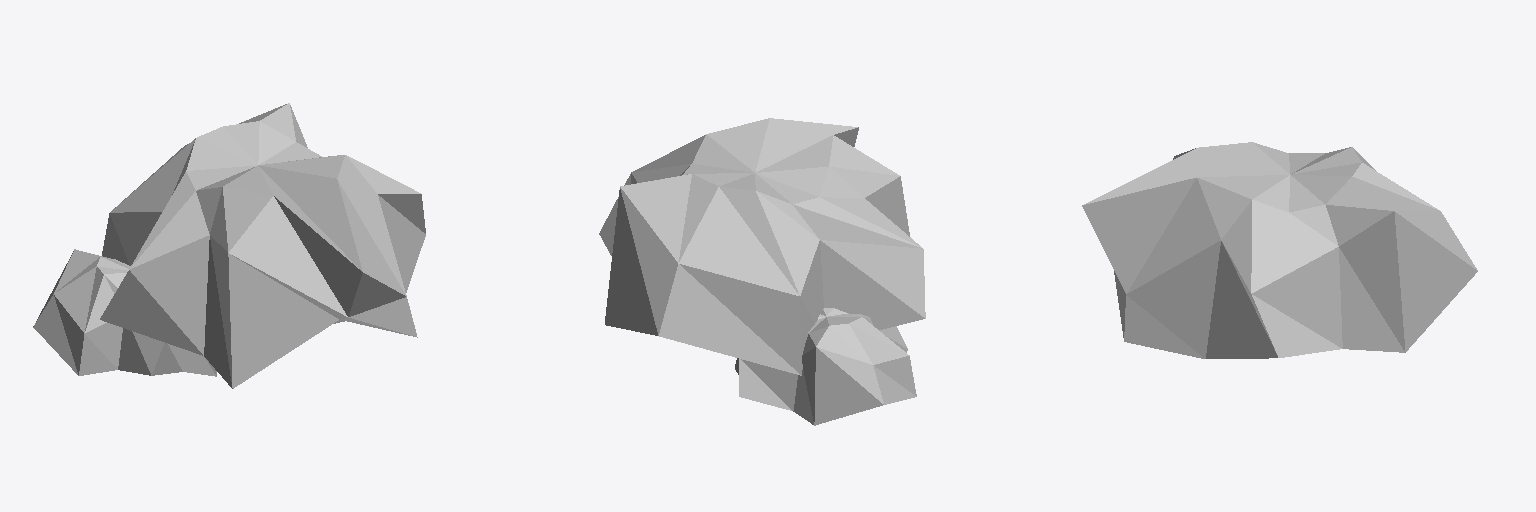
Rendered from leaves2.obj.
3 views of the same model, side by side, from view 1: azimuth 30°, elevation 25°; view 2: azimuth 150°, elevation 25°; view 3: azimuth 270°, elevation 25° (orthographic).
Visible parts, largest first — view 1: polySurface11 group5 LowPoly_Tree_v2:Mesh, group5 LowPoly_Tree_v2:Mesh polySurface10; view 2: polySurface11 group5 LowPoly_Tree_v2:Mesh, group5 LowPoly_Tree_v2:Mesh polySurface10; view 3: polySurface11 group5 LowPoly_Tree_v2:Mesh.
Boxes of the visible parts, box(x1,y1,x2,y2) form: polySurface11 group5 LowPoly_Tree_v2:Mesh: box(100, 103, 425, 388); group5 LowPoly_Tree_v2:Mesh polySurface10: box(33, 249, 216, 376); polySurface11 group5 LowPoly_Tree_v2:Mesh: box(599, 118, 925, 375); group5 LowPoly_Tree_v2:Mesh polySurface10: box(735, 308, 916, 425); polySurface11 group5 LowPoly_Tree_v2:Mesh: box(1082, 142, 1477, 358).
Size of the model in its own units: 1.95 by 1.09 by 1.98.